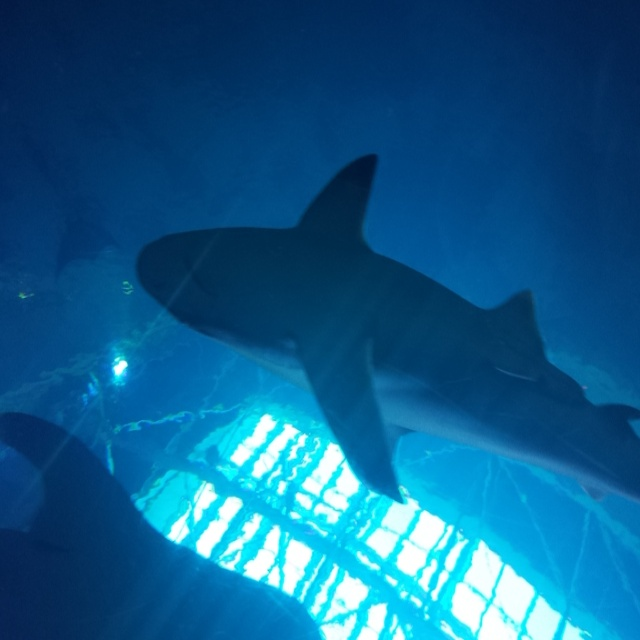Shark: (135, 153, 640, 504)
